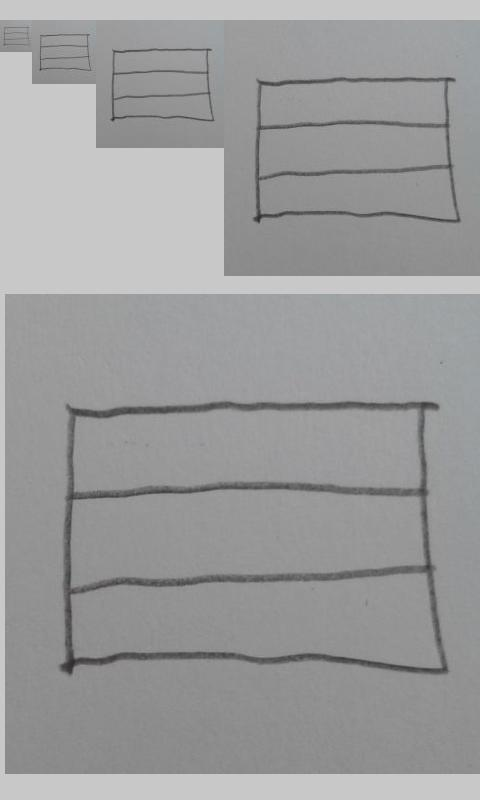list_view: (59, 400, 452, 679), (254, 77, 462, 225), (111, 48, 216, 122), (39, 33, 91, 71), (3, 26, 30, 46)
